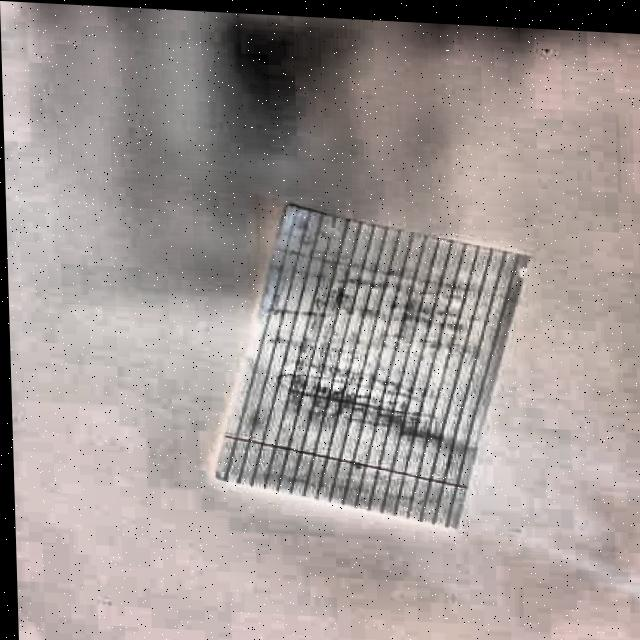paper: (208, 198, 542, 535)
